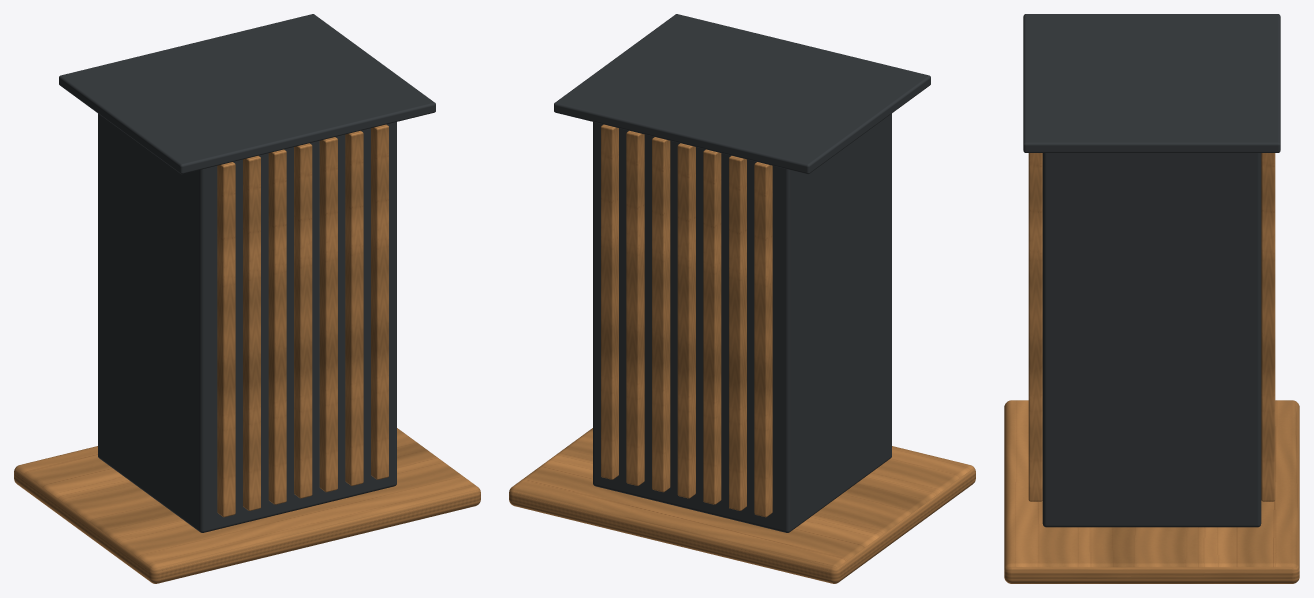
The model's file is slat-pedestal.glb.
The picture shows the model from 3 angles, left to right: view 1: azimuth 30°, elevation 25°; view 2: azimuth 150°, elevation 25°; view 3: azimuth 270°, elevation 25°; orthographic projection. The views are drawn at different scales.
Parts seen in each view (by area): view 1: Pedestal_Core, Pedestal_TopPlate, Base_Plinth, Slat_Front_03, Slat_Front_04, Slat_Front_01, Slat_Front_05, Slat_Front_06, Slat_Front_02, Slat_Front_07; view 2: Pedestal_Core, Pedestal_TopPlate, Base_Plinth, Slat_Back_03, Slat_Back_04, Slat_Back_01, Slat_Back_05, Slat_Back_06, Slat_Back_02, Slat_Back_07; view 3: Pedestal_Core, Pedestal_TopPlate, Base_Plinth, Slat_Front_07, Slat_Back_07.
Boxes of the visible parts, x1,y1,x2,y2 form: Pedestal_Core: [98, 113, 396, 532]; Pedestal_TopPlate: [59, 14, 435, 174]; Base_Plinth: [14, 428, 480, 583]; Slat_Front_03: [268, 149, 286, 504]; Slat_Front_04: [294, 143, 312, 498]; Slat_Front_01: [217, 162, 235, 517]; Slat_Front_05: [319, 137, 337, 492]; Slat_Front_06: [345, 130, 363, 485]; Slat_Front_02: [243, 155, 260, 510]; Slat_Front_07: [371, 124, 388, 479]; Pedestal_Core: [593, 113, 891, 532]; Pedestal_TopPlate: [554, 14, 930, 174]; Base_Plinth: [509, 428, 975, 583]; Slat_Back_03: [703, 149, 721, 504]; Slat_Back_04: [677, 143, 695, 498]; Slat_Back_01: [754, 162, 772, 517]; Slat_Back_05: [652, 137, 670, 492]; Slat_Back_06: [626, 130, 644, 485]; Slat_Back_02: [729, 155, 746, 510]; Slat_Back_07: [601, 124, 618, 479]; Pedestal_Core: [1042, 153, 1261, 527]; Pedestal_TopPlate: [1023, 14, 1280, 152]; Base_Plinth: [1004, 400, 1299, 583]; Slat_Front_07: [1028, 153, 1042, 501]; Slat_Back_07: [1261, 153, 1275, 501].
Bounding box in the file's own units: 0.62 × 0.728 × 0.46.
Materials: 3 (2 with a texture image).
